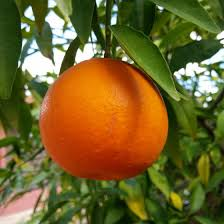orange: (35, 57, 169, 180)
